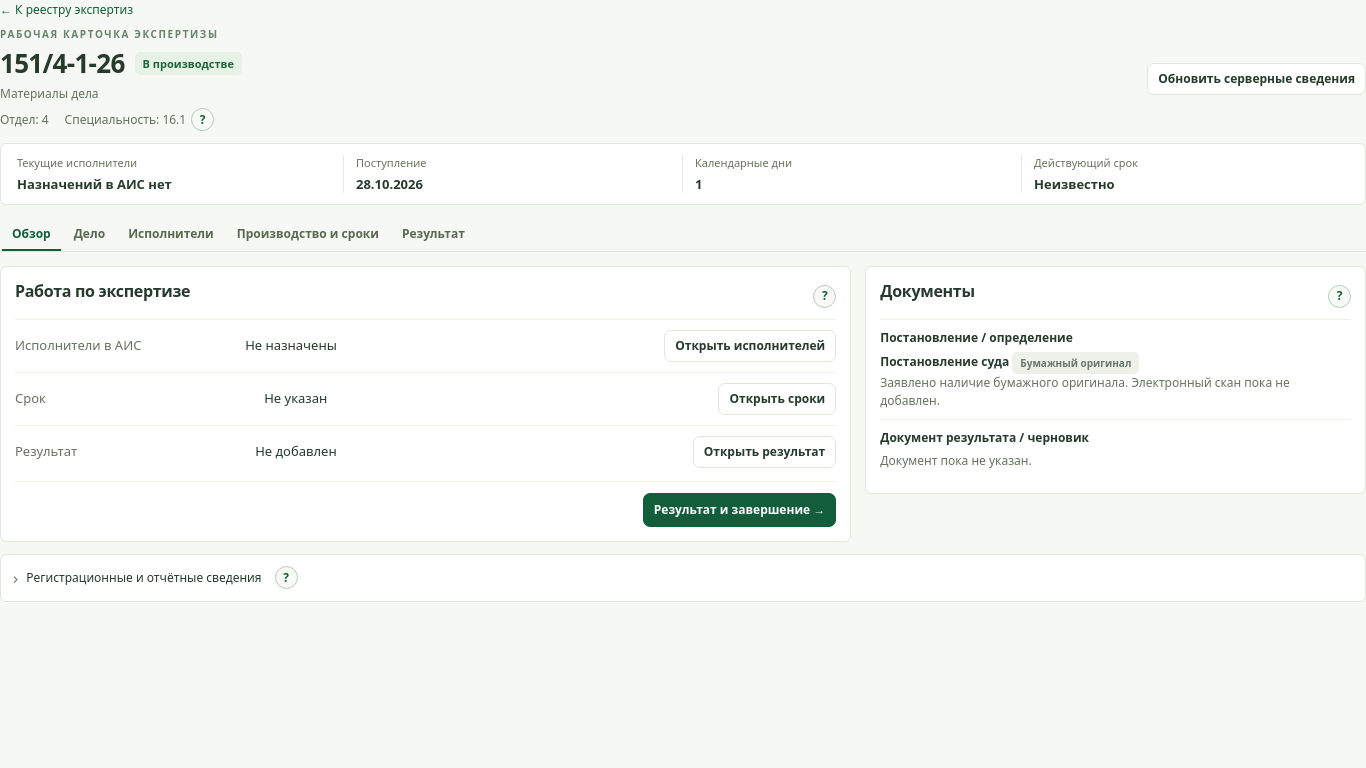
Test case: keeps input on denied save and guards unsaved navigation
Click the tab "Дело" at coordinates (89, 235), box [64, 219, 115, 251]
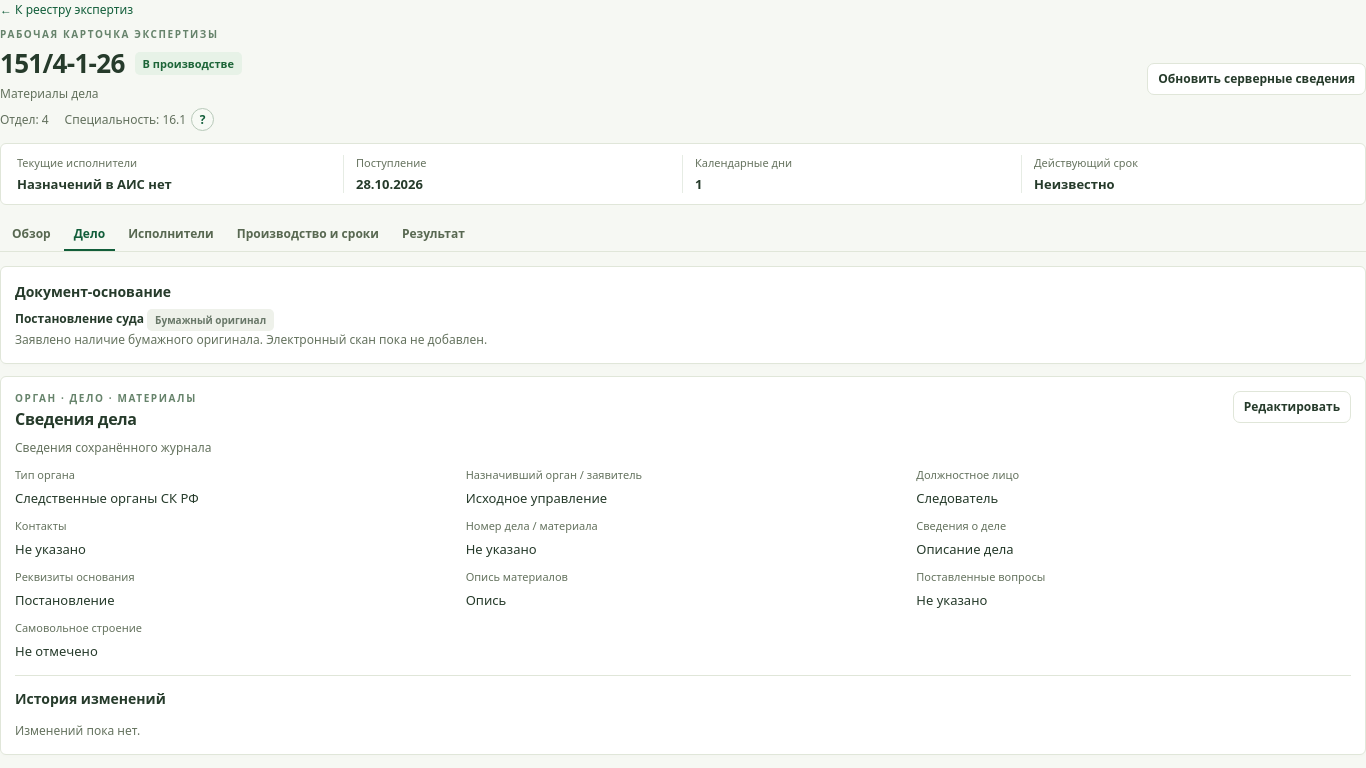
Click the button "Редактировать" at coordinates (1292, 407), box [1233, 391, 1351, 423]
(page scrolled)
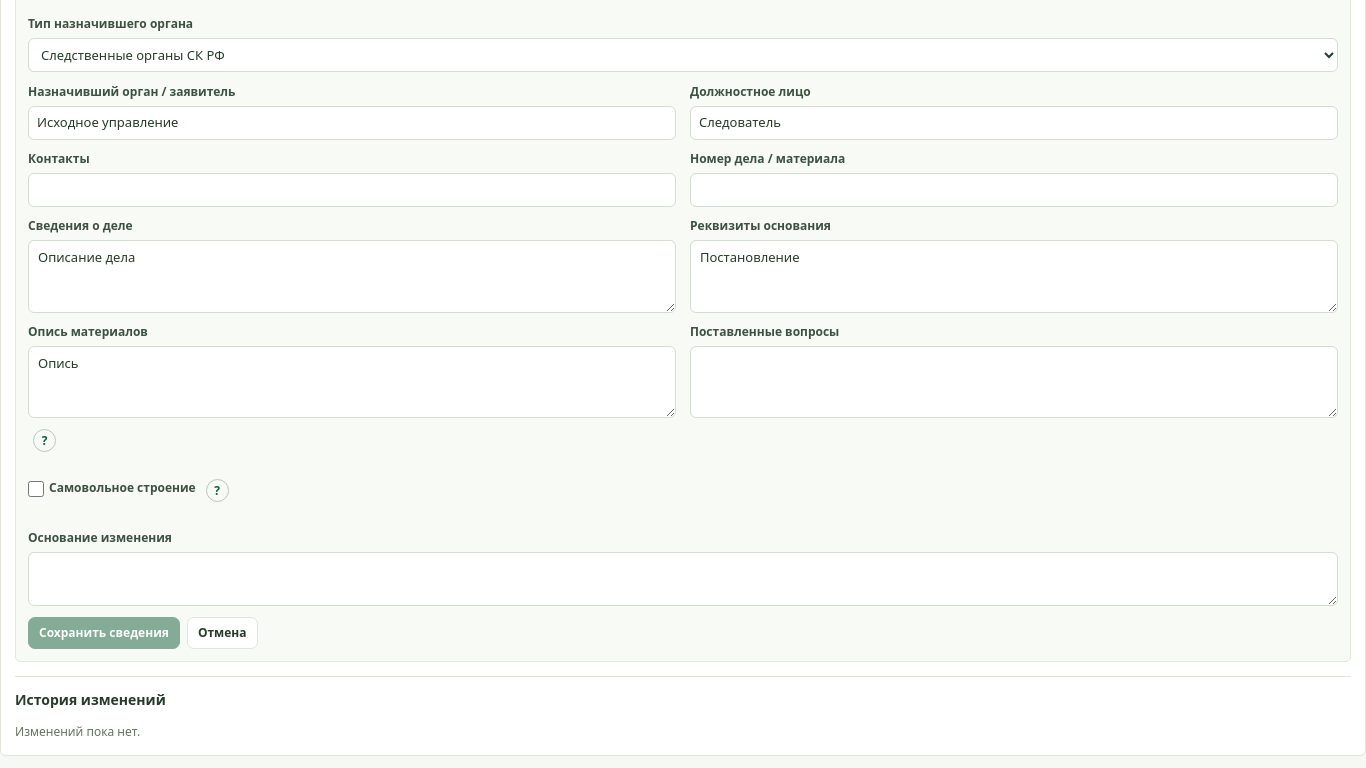
Type "Сверено с делом" into the text box named "case_reason" at coordinates (683, 579), box [28, 552, 1338, 606]
(page scrolled)
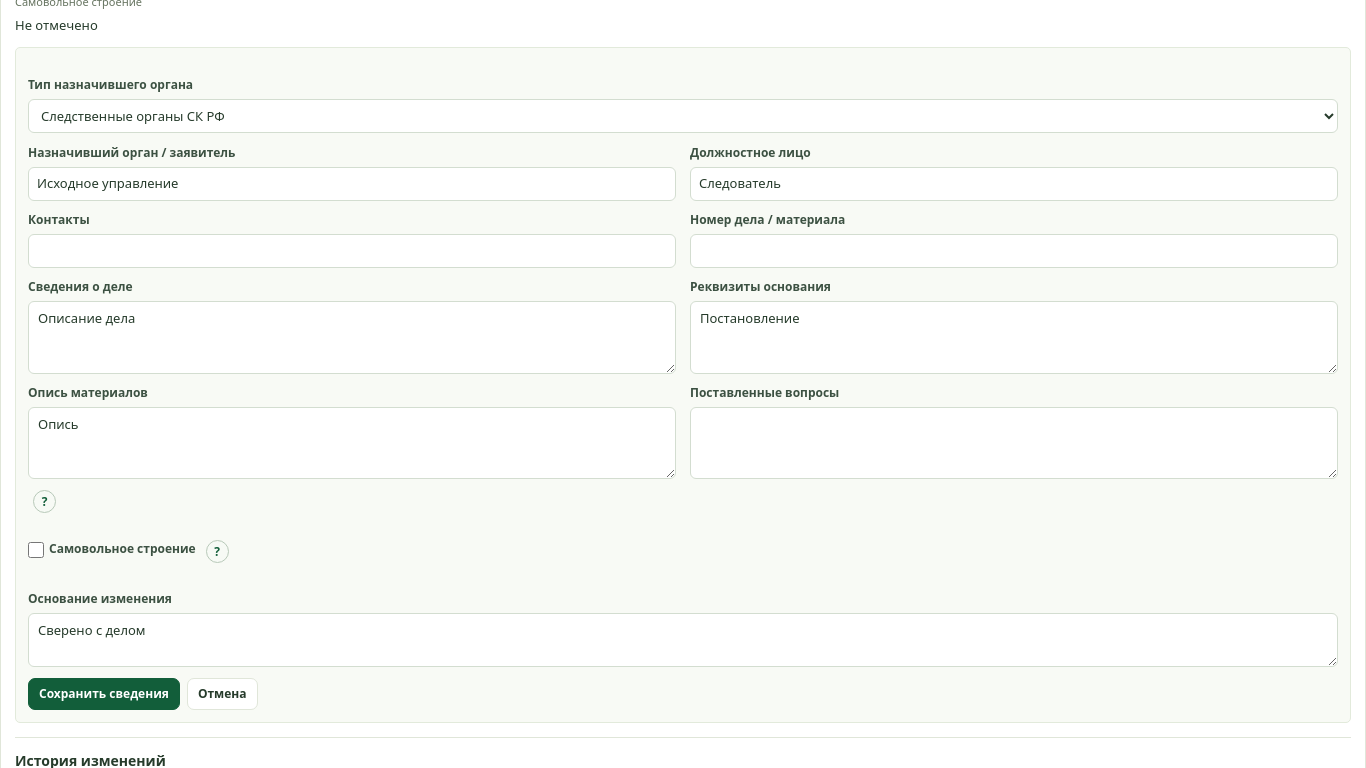
Submit the form
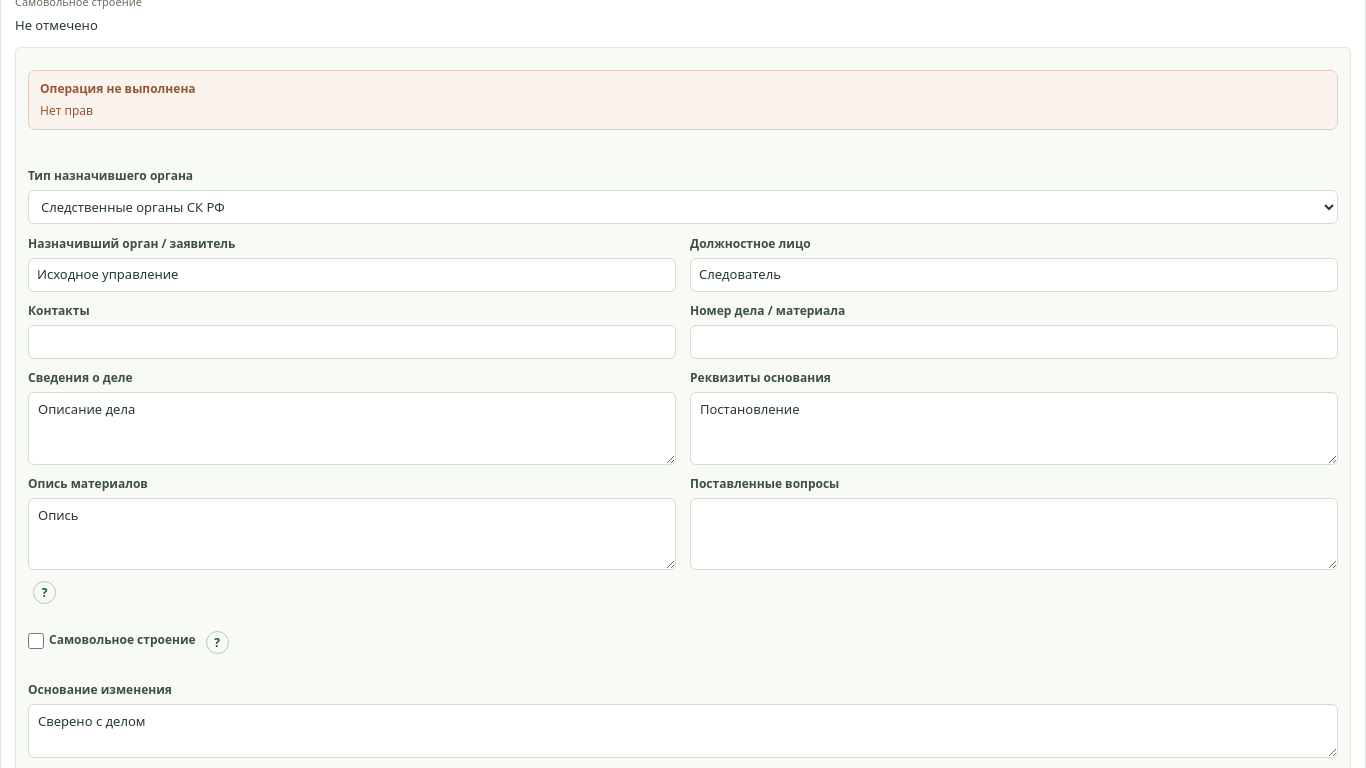
Expected: the text "Нет прав" is shown, [40, 102, 93, 119]
